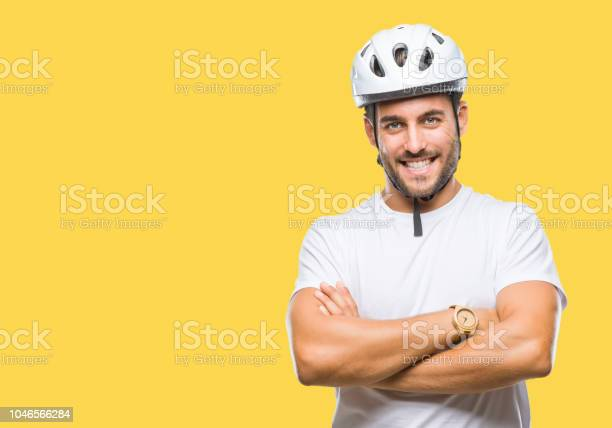helmet: (350, 24, 469, 199)
